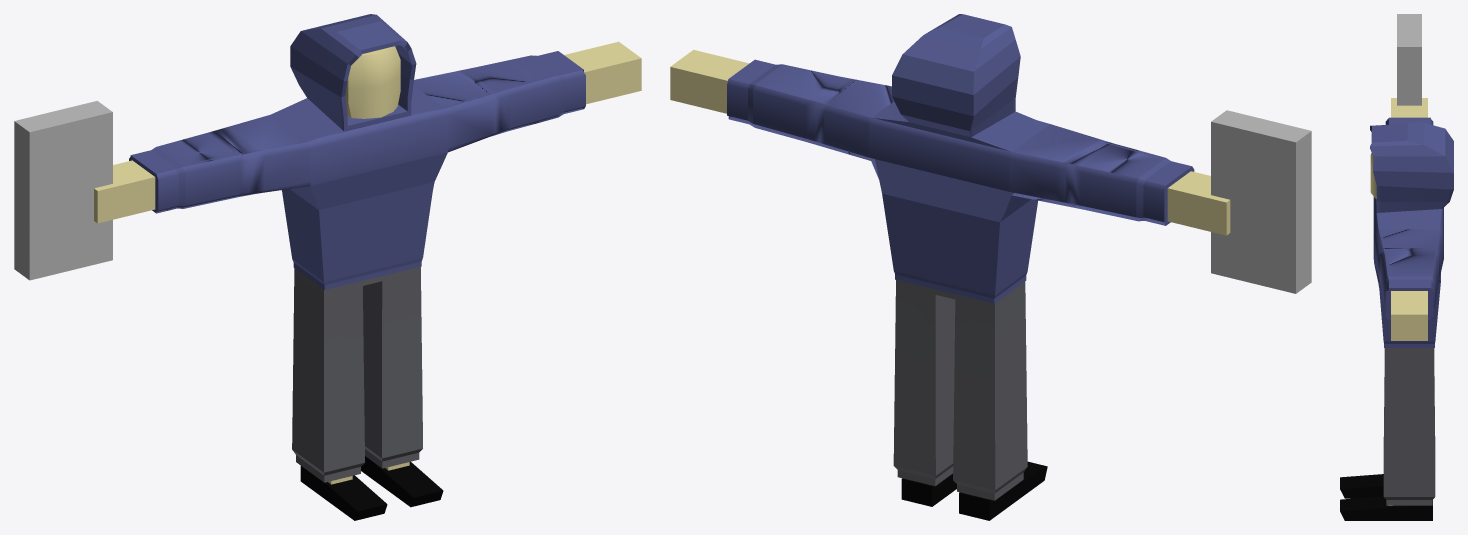
The model's file is person unrigged.fbx.
The picture shows the model from 3 angles, left to right: view 1: azimuth 30°, elevation 25°; view 2: azimuth 150°, elevation 25°; view 3: azimuth 270°, elevation 25°; orthographic projection. The views are drawn at different scales.
Parts seen in each view (by area): view 1: hoodie_GEO; view 2: hoodie_GEO; view 3: hoodie_GEO.
Boxes of the visible parts, x1,y1,x2,y2 form: hoodie_GEO: (14, 14, 641, 520); hoodie_GEO: (670, 14, 1311, 520); hoodie_GEO: (1340, 14, 1453, 520).
Size of the model in its own units: 1627 by 1165 by 324.
